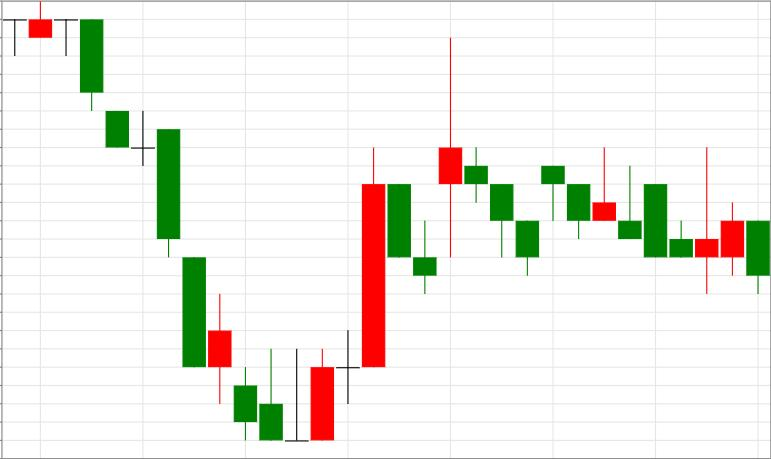morning_star_rise: (81, 19, 333, 443)
